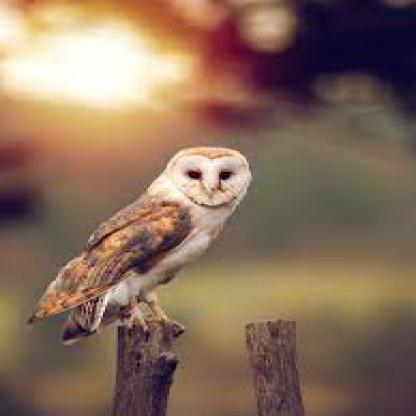owl: (40, 111, 361, 415)
